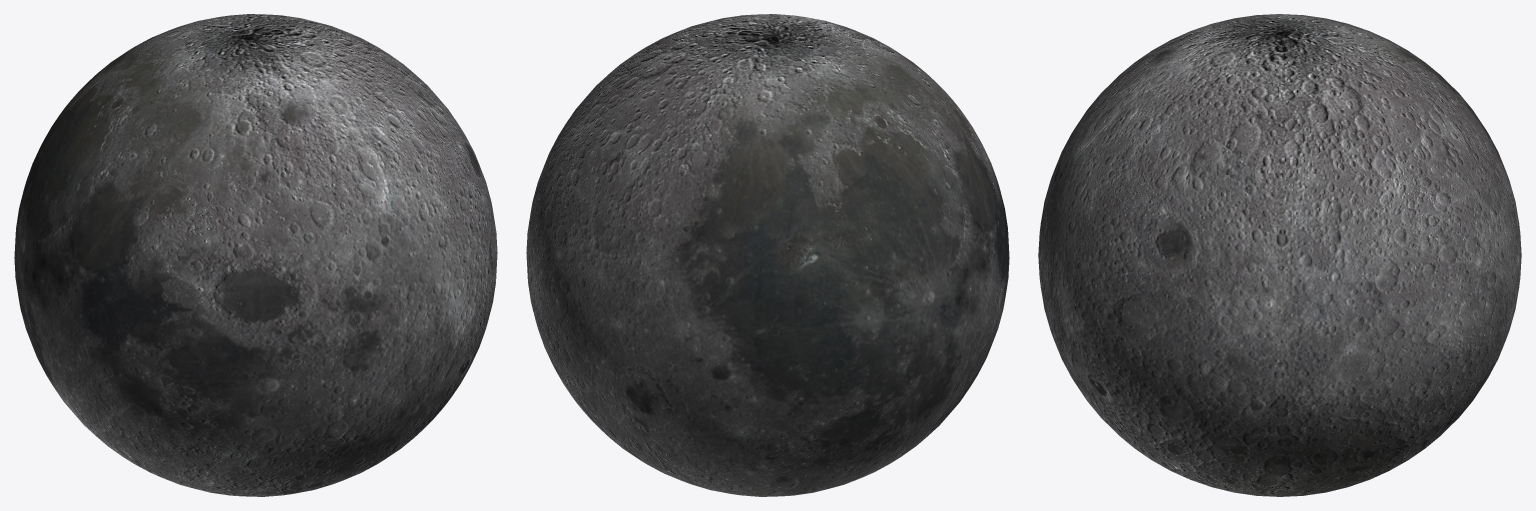
Rendered from nasa-moon.glb.
The picture shows the model from 3 angles, left to right: view 1: azimuth 30°, elevation 25°; view 2: azimuth 150°, elevation 25°; view 3: azimuth 270°, elevation 25°; orthographic projection.
Visible parts, largest first — view 1: Cube.008; view 2: Cube.008; view 3: Cube.008.
Boxes of the visible parts, x1,y1,x2,y2 form: Cube.008: [14, 14, 497, 496]; Cube.008: [526, 14, 1009, 496]; Cube.008: [1038, 14, 1521, 496].
Bounding box in the file's own units: 2 × 2 × 2.
Materials: 1 (1 with a texture image).
